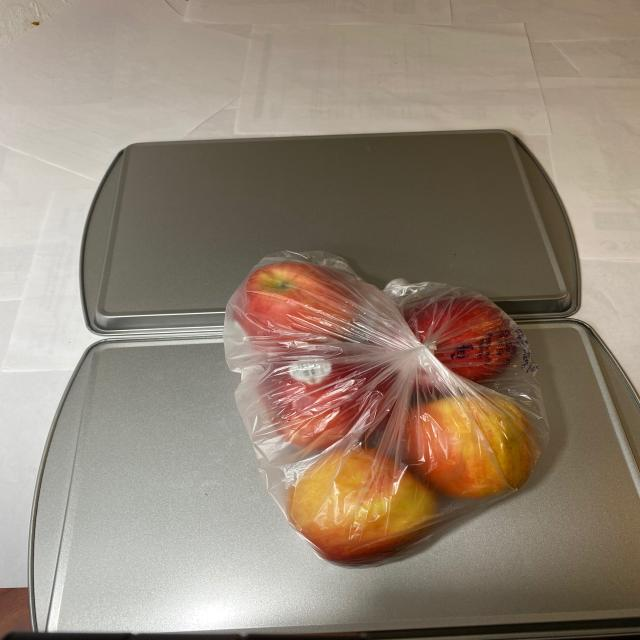apple: (222, 259, 543, 568)
